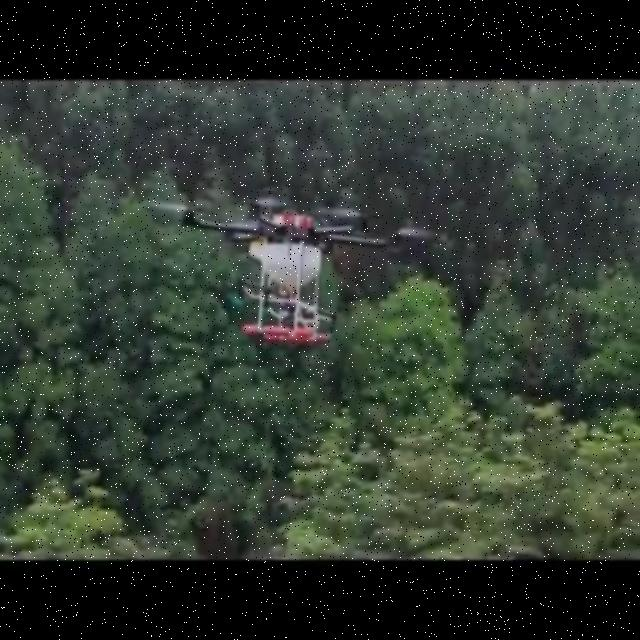UAV: (176, 185, 412, 343)
